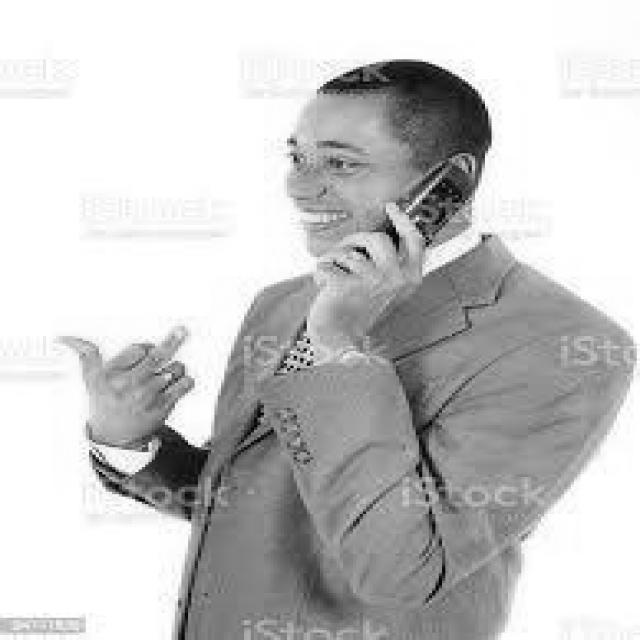No gun_phone: (354, 166, 473, 260)
